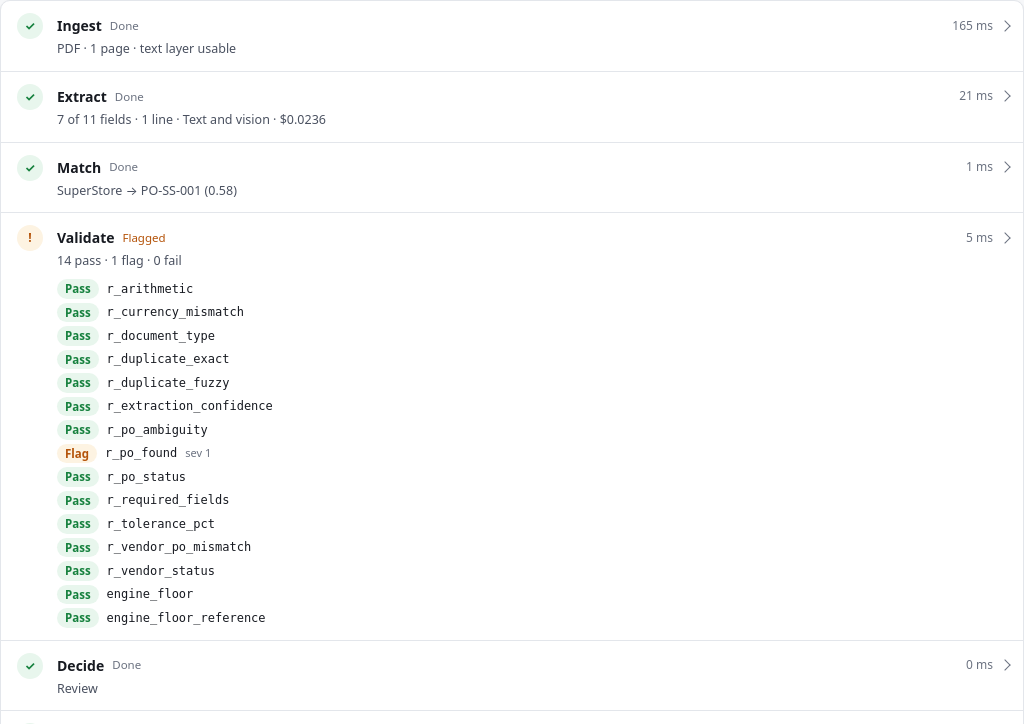
Scenario: StageTimeline › expands a stage into its events
The image size is (1024, 724).
Click the button "Match Done 1 ms": (79, 167) [57, 154, 1009, 180]
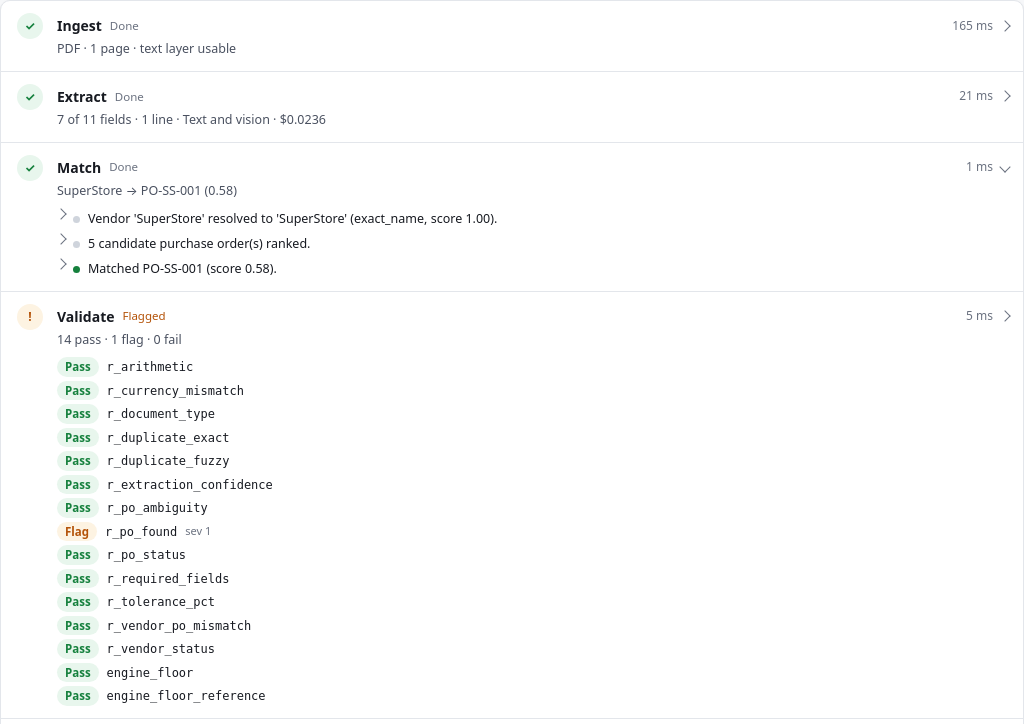
expect the text "5 candidate purchase order(s) ranked." is shown: met, box [88, 235, 310, 252]
